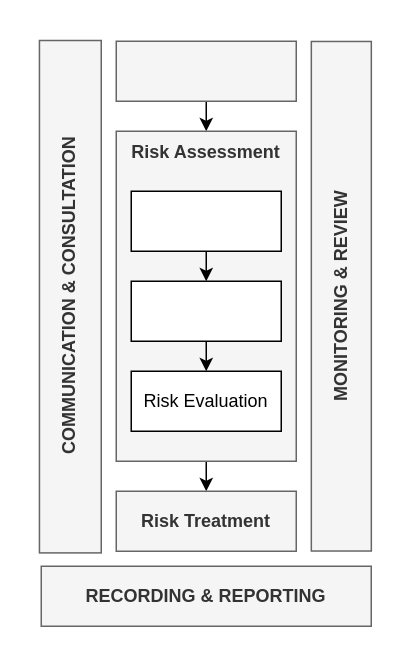
Image size: 411x666. Some labels were removed from this diagram. Here are the shapes that lost their labels. From the top down, the centre of each, then its label:
At (205,70): "Scope, Context, Criteria".
At (205,220): "Risk Identification".
At (205,310): "Risk Analysis".
